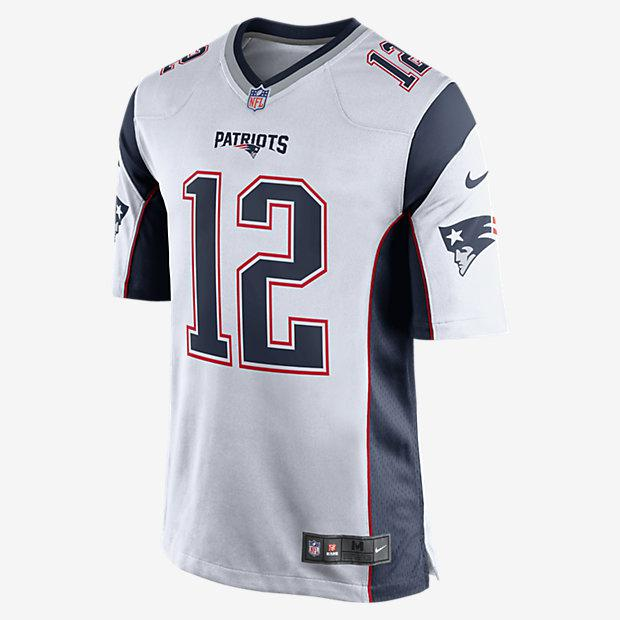teeshirt: (94, 13, 535, 620)
